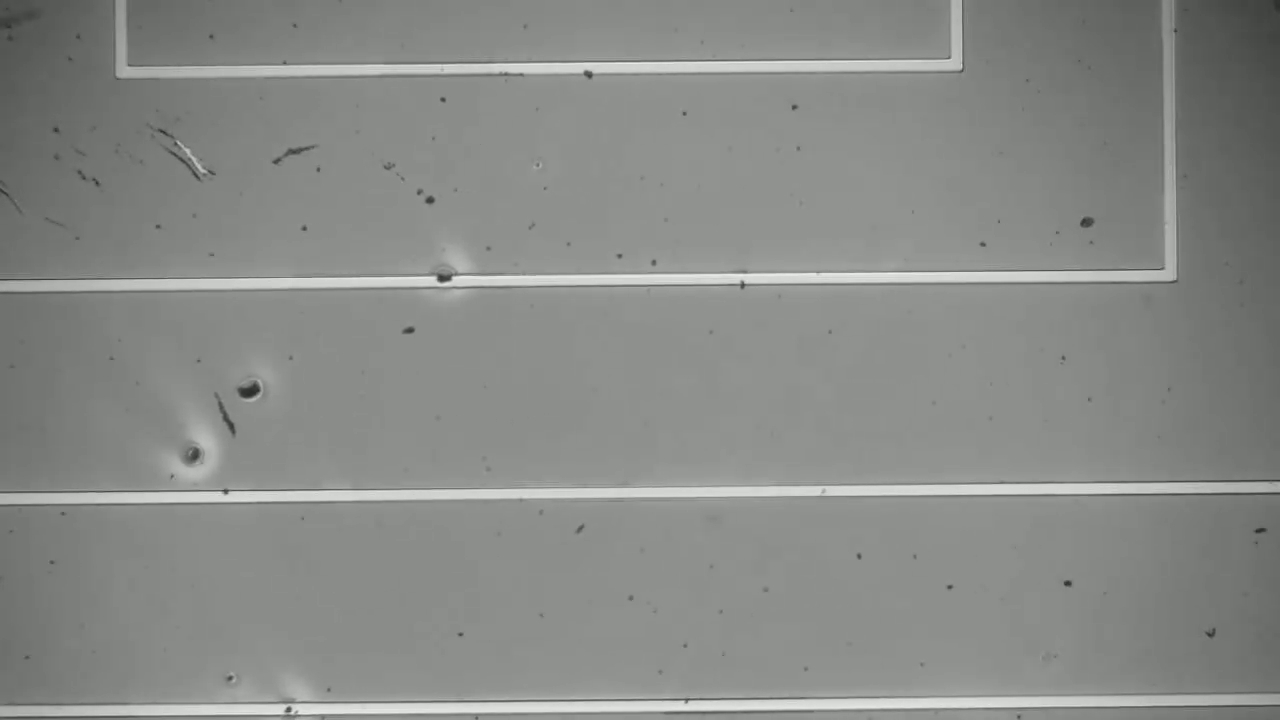stains_enbedded: (427, 255, 467, 304)
